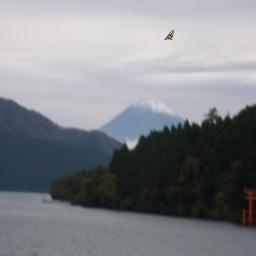Woodpecker: (164, 30, 175, 40)
